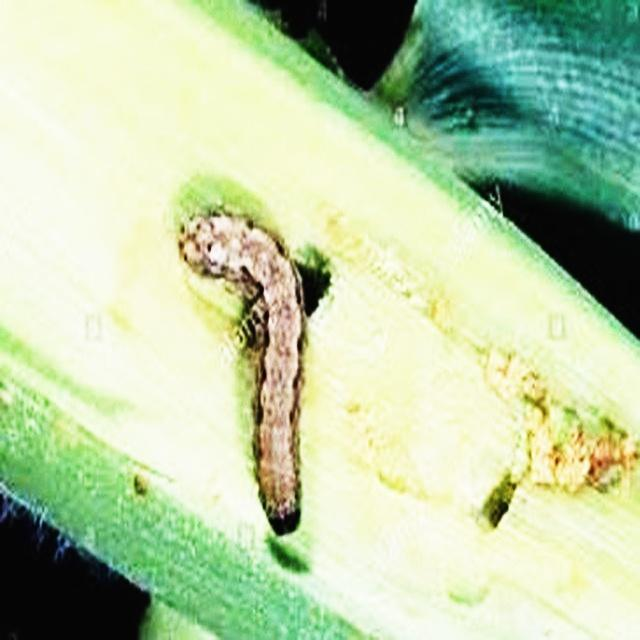gusano_cogollero: (169, 198, 309, 543)
